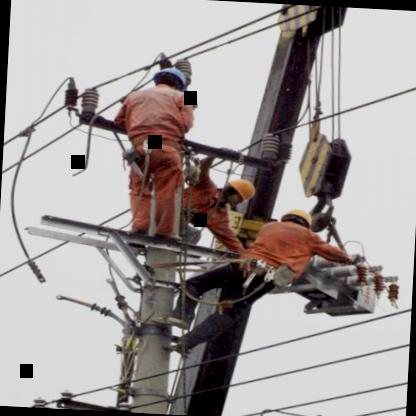helmet: (146, 61, 190, 96), (214, 176, 257, 206), (278, 206, 314, 234)
